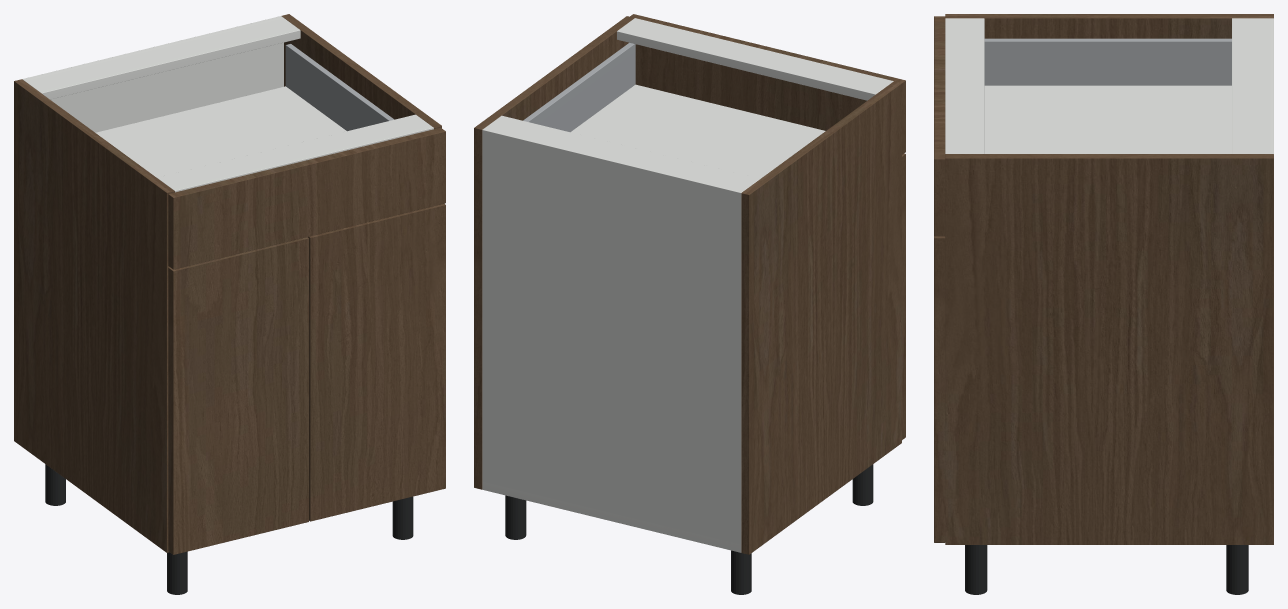
Rendered from oppein-pb-mso-b24.glb.
The picture shows the model from 3 angles, left to right: view 1: azimuth 30°, elevation 25°; view 2: azimuth 150°, elevation 25°; view 3: azimuth 270°, elevation 25°; orthographic projection. The views are drawn at different scales.
Parts seen in each view (by area): view 1: Cabinet side, Door, Door.001, Drawer front, Drawer floor, Cabinet back, Top support rail, Top support rail.001, Drawer side.001, Cabinet side.001, Adjustable foot.003, Adjustable foot.001 (+1 smaller); view 2: Cabinet back, Cabinet side, Drawer floor, Drawer front, Top support rail.001, Cabinet side.001, Top support rail, Drawer side.001, Cabinet bottom, Door, Adjustable foot.002, Adjustable foot (+1 smaller); view 3: Cabinet side.001, Drawer floor, Drawer side, Cabinet side, Top support rail.001, Top support rail, Door.001, Drawer front, Adjustable foot.002, Adjustable foot.003, Cabinet back.
Boxes of the visible parts, x1,y1,x2,y2 form: Cabinet side: (14, 79, 174, 552); Door: (168, 237, 308, 554); Door.001: (307, 203, 445, 521); Drawer front: (168, 127, 445, 269); Drawer floor: (95, 86, 346, 177); Cabinet back: (22, 16, 283, 132); Top support rail: (24, 18, 300, 99); Top support rail.001: (157, 114, 433, 192); Drawer side.001: (285, 44, 393, 131); Cabinet side.001: (281, 14, 441, 129); Adjustable foot.003: (392, 496, 413, 539); Adjustable foot.001: (167, 551, 187, 594); Cabinet back: (482, 127, 743, 552); Cabinet side: (741, 81, 901, 554); Drawer floor: (571, 84, 825, 178); Drawer front: (630, 14, 905, 154); Top support rail.001: (617, 18, 893, 100); Cabinet side.001: (474, 16, 634, 489); Top support rail: (485, 115, 760, 190); Drawer side.001: (523, 42, 635, 132); Cabinet bottom: (482, 481, 741, 552); Door: (902, 153, 905, 439); Adjustable foot.002: (505, 495, 526, 539); Adjustable foot: (731, 550, 751, 594); Cabinet side.001: (945, 154, 1273, 544); Drawer floor: (984, 85, 1231, 153); Drawer side: (984, 38, 1231, 85); Cabinet side: (945, 14, 1273, 38); Top support rail.001: (945, 18, 984, 153); Top support rail: (1232, 18, 1267, 153); Door.001: (934, 236, 945, 542); Drawer front: (934, 16, 945, 236); Adjustable foot.002: (1226, 545, 1248, 594); Adjustable foot.003: (965, 545, 987, 594); Cabinet back: (1267, 18, 1273, 153).
Size of the model in its own units: 0.6096 by 0.8763 by 0.6064.
Materials: 4 (1 with a texture image).
